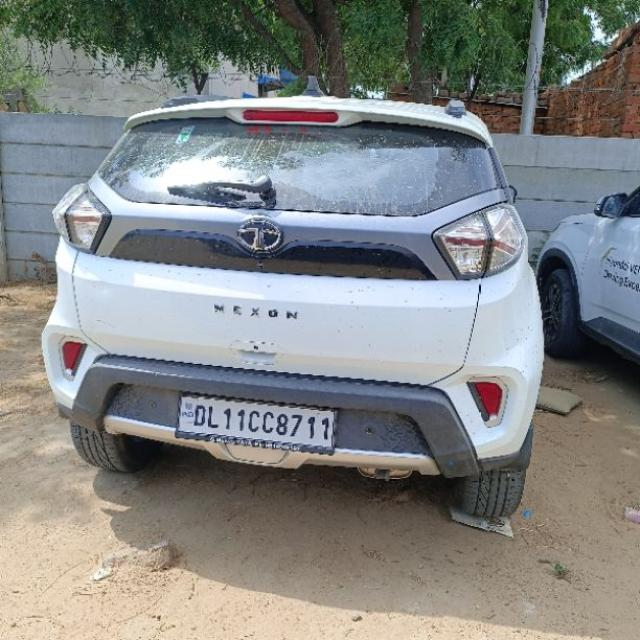license_plate: (174, 392, 338, 454)
